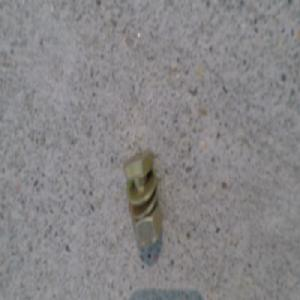BoltNutSet: (122, 146, 161, 243)
